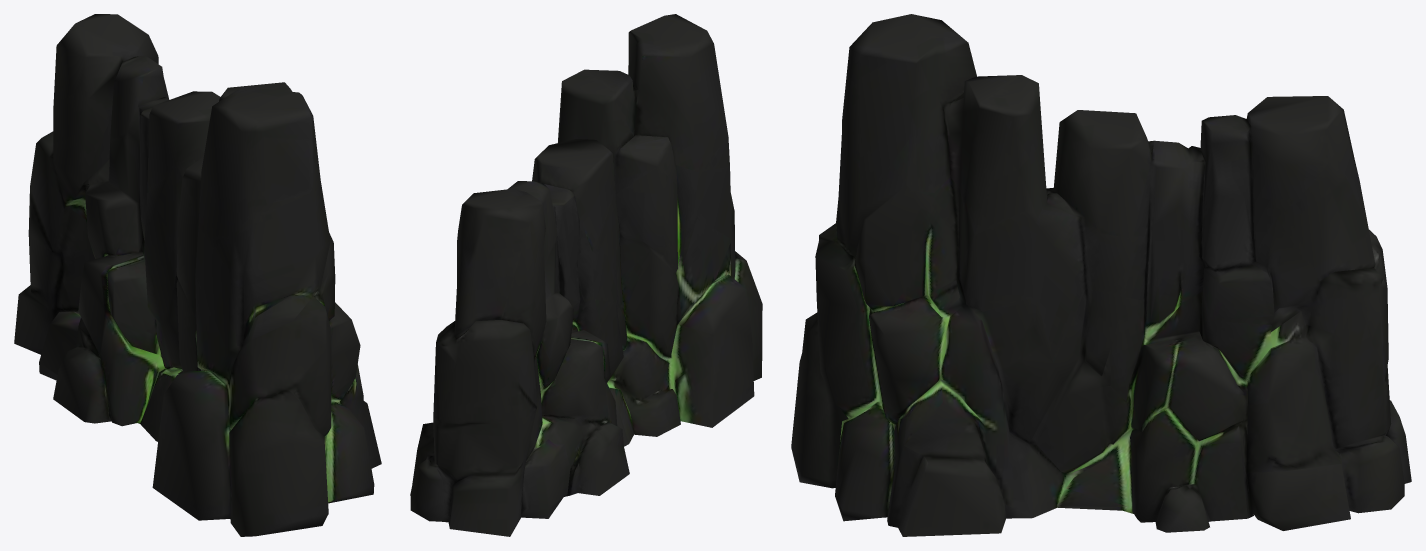
Rendered from orkadia_volcanic_cliff.glb.
3 renders of one model, left to right at view 1: azimuth 30°, elevation 25°; view 2: azimuth 150°, elevation 25°; view 3: azimuth 270°, elevation 25°, orthographic. The views are drawn at different scales.
Parts seen in each view (by area): view 1: tripo_node_d2e0f4e7-ff17-42ad-aeb4-88e6e51dbc1d; view 2: tripo_node_d2e0f4e7-ff17-42ad-aeb4-88e6e51dbc1d; view 3: tripo_node_d2e0f4e7-ff17-42ad-aeb4-88e6e51dbc1d.
Part boxes in pixels (<box>): tripo_node_d2e0f4e7-ff17-42ad-aeb4-88e6e51dbc1d: <box>14,14,381,536</box>; tripo_node_d2e0f4e7-ff17-42ad-aeb4-88e6e51dbc1d: <box>410,14,762,536</box>; tripo_node_d2e0f4e7-ff17-42ad-aeb4-88e6e51dbc1d: <box>791,14,1411,536</box>.
Size of the model in its own units: 11.41 by 22 by 27.9.
1 material, 1 textured.
